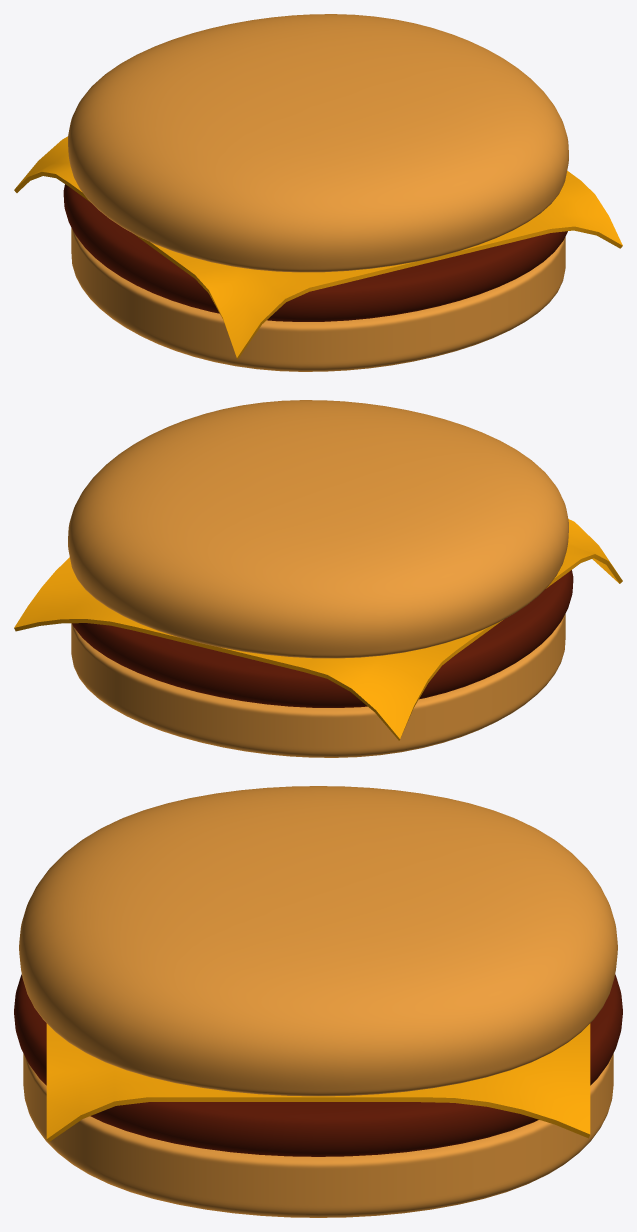
File: hamburger.glb
3 views of the same model, one above another, from view 1: azimuth 30°, elevation 25°; view 2: azimuth 150°, elevation 25°; view 3: azimuth 270°, elevation 25° (orthographic). The views are drawn at different scales.
Parts seen in each view (by area): view 1: Cube.002, Cube, Cube.001, Plane; view 2: Cube.002, Cube, Cube.001, Plane; view 3: Cube.002, Cube, Cube.001, Plane.
Boxes of the visible parts, x1,y1,x2,y2 form: Cube.002: (68, 14, 568, 272); Cube: (71, 228, 565, 371); Cube.001: (63, 184, 567, 321); Plane: (14, 136, 622, 359); Cube.002: (68, 400, 568, 658); Cube: (71, 614, 565, 757); Cube.001: (72, 570, 573, 707); Plane: (14, 519, 622, 740); Cube.002: (19, 786, 617, 1096); Cube: (23, 1053, 613, 1217); Cube.001: (14, 974, 622, 1156); Plane: (46, 1023, 590, 1141).
Size of the model in its own units: 9.61 by 4.31 by 9.61.
